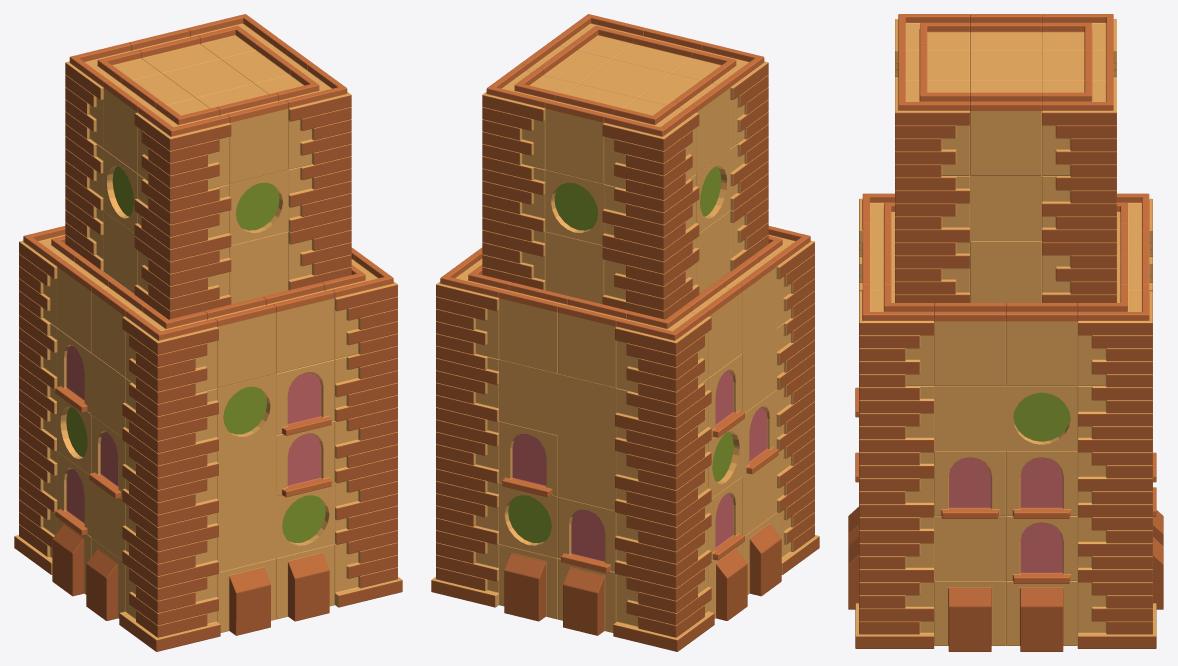
The model's file is house v3.012.fbx.
3 views of the same model, side by side, from view 1: azimuth 30°, elevation 25°; view 2: azimuth 150°, elevation 25°; view 3: azimuth 270°, elevation 25° (orthographic). The views are drawn at different scales.
Visible parts, largest first — view 1: House; view 2: House; view 3: House.
Part boxes in pixels (x1,y1,x2,y2): House: (14,14,402,651); House: (431,14,819,651); House: (848,14,1163,651).
Bounding box in the file's own units: 440 × 810 × 440.
